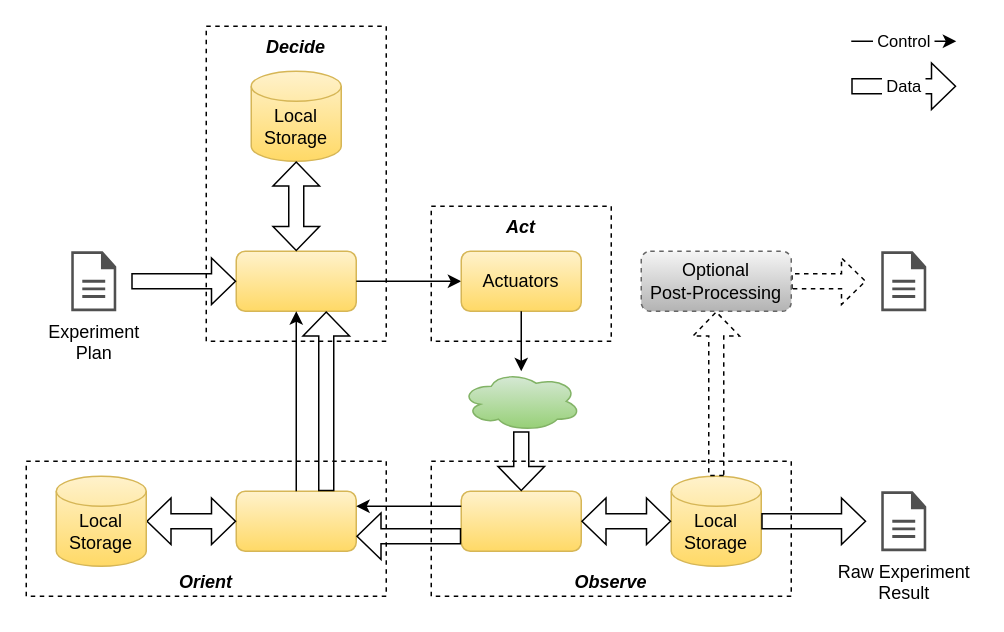
The diagram is 1004 pixels wide and 632 high, and some of its shapes have lost their labels. Each missing label, with the centre of its shape:
"(Remote) Controller" goes at [295,280].
"Optional Post-Processed Experiment Result" goes at [903,280].
"Remote Analyser" goes at [295,520].
"Sensors" goes at [520,520].
"Test" goes at [520,400].
